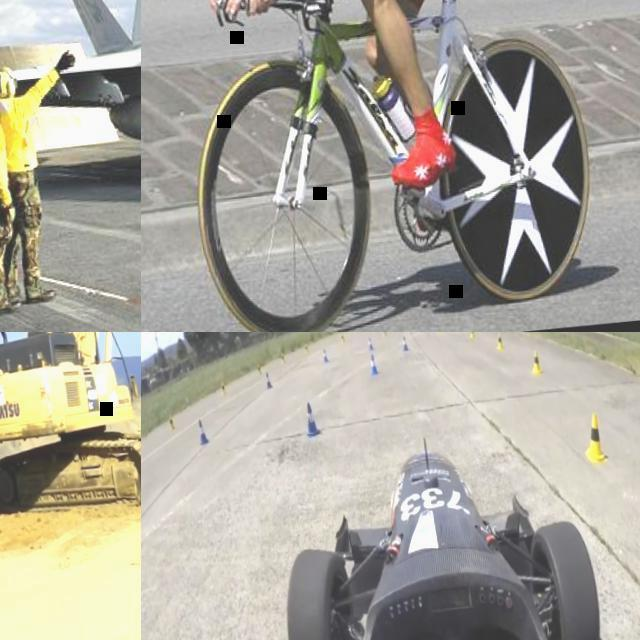helmet: (0, 66, 19, 98)
machinery: (0, 332, 141, 521)
person: (186, 0, 520, 205), (0, 39, 102, 301), (0, 72, 26, 315)
safety_cone: (578, 414, 610, 468), (302, 403, 322, 440), (195, 418, 211, 451), (530, 350, 542, 376), (368, 353, 380, 379), (264, 370, 274, 391), (495, 332, 505, 352), (401, 335, 410, 354), (168, 414, 176, 434), (220, 383, 228, 400), (322, 348, 330, 365), (366, 336, 374, 352), (280, 352, 288, 367), (256, 362, 263, 378), (304, 342, 310, 356), (340, 332, 346, 346), (470, 332, 477, 340), (382, 332, 388, 337)
vehicle: (251, 416, 623, 640)
vest: (0, 92, 40, 173)
